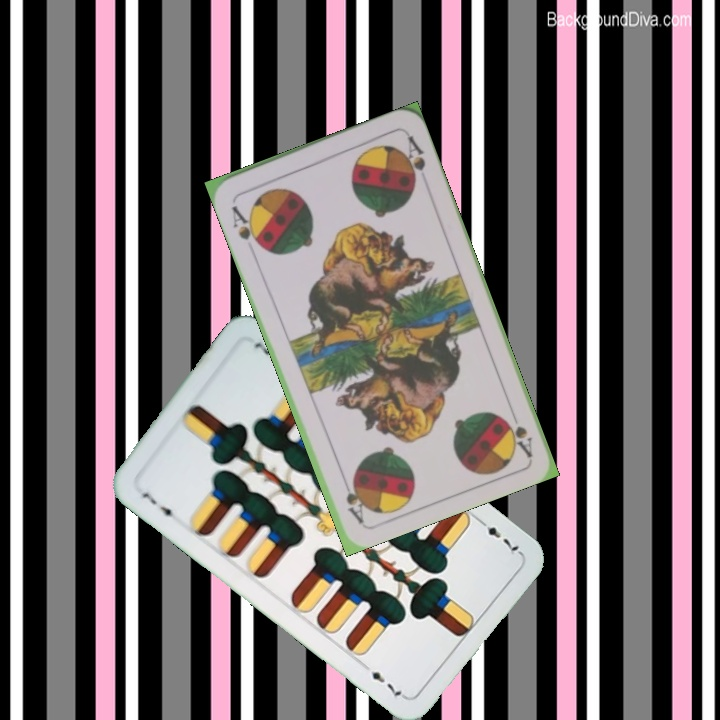E7: (473, 514, 523, 558), (136, 487, 179, 524)
SA: (500, 402, 535, 459), (227, 201, 265, 250)
